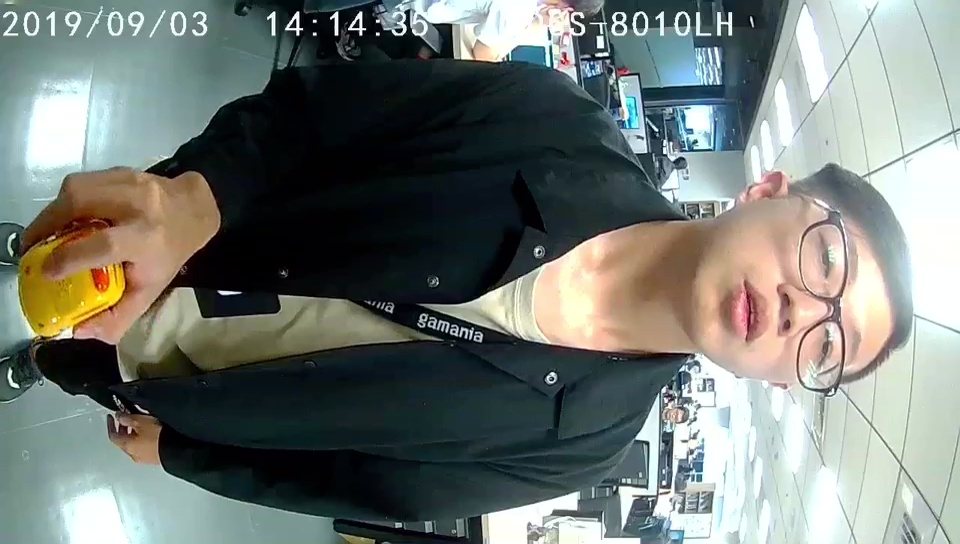car: (17, 227, 125, 337)
